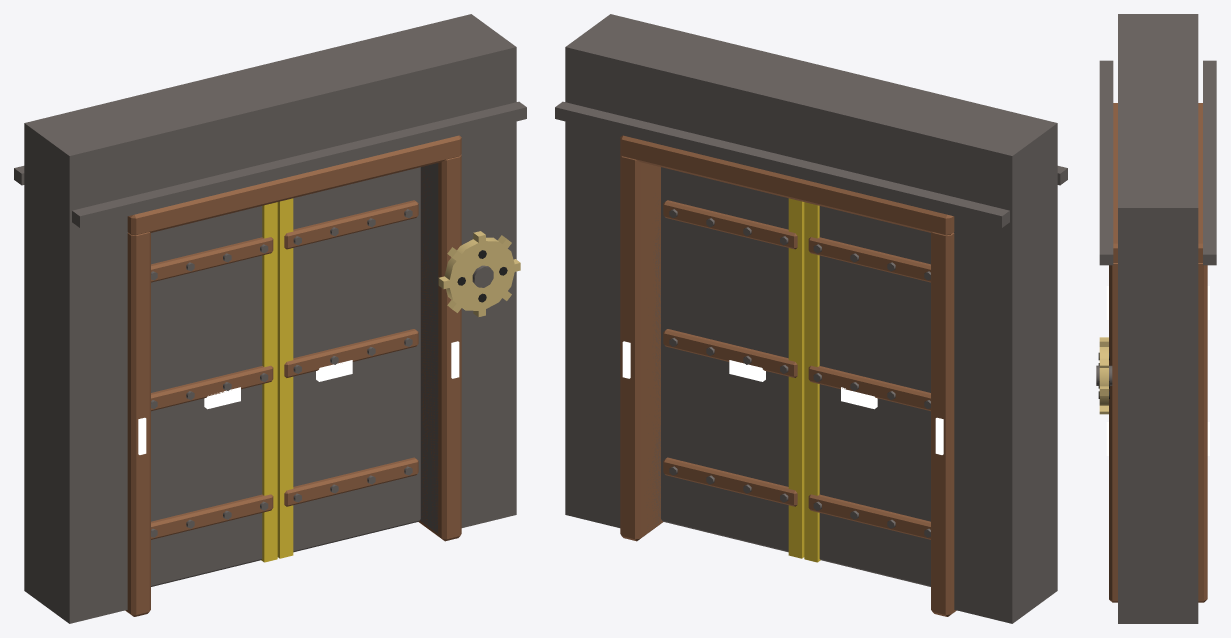
File: door_wk_shutter.glb
3 renders of one model, left to right at view 1: azimuth 30°, elevation 25°; view 2: azimuth 150°, elevation 25°; view 3: azimuth 270°, elevation 25°, orthographic. The views are drawn at different scales.
Parts seen in each view (by area): view 1: frame, leaf_r, leaf_l; view 2: frame, leaf_r, leaf_l; view 3: frame.
Boxes of the visible parts, x1=… form: frame: x1=14, y1=14, x2=526, y2=623; leaf_r: x1=277, y1=167, x2=420, y2=558; leaf_l: x1=151, y1=202, x2=277, y2=586; frame: x1=555, y1=14, x2=1067, y2=623; leaf_r: x1=661, y1=167, x2=804, y2=558; leaf_l: x1=804, y1=202, x2=930, y2=586; frame: x1=1096, y1=14, x2=1216, y2=623.
Size of the model in its own units: 4 by 4.05 by 1.05.
